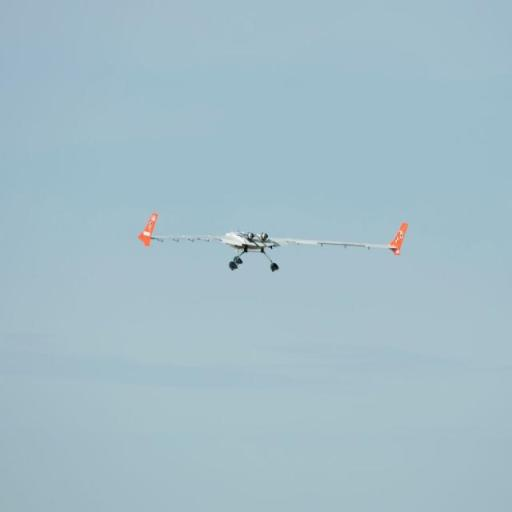uav: (130, 206, 412, 279)
